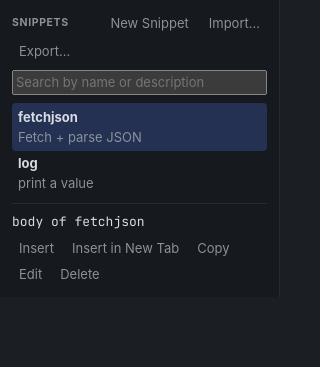
Scenario: snippets panel (spec §13.1) › a clipboard that refuses says so rather than claiming a copy
Click the button "Copy". click: (213, 248)
box: [190,237,236,259]
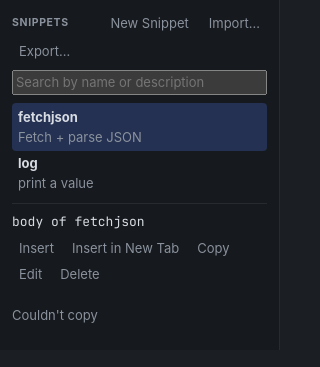
Now the text "Couldn't copy" is shown, box [12,307,98,323]
